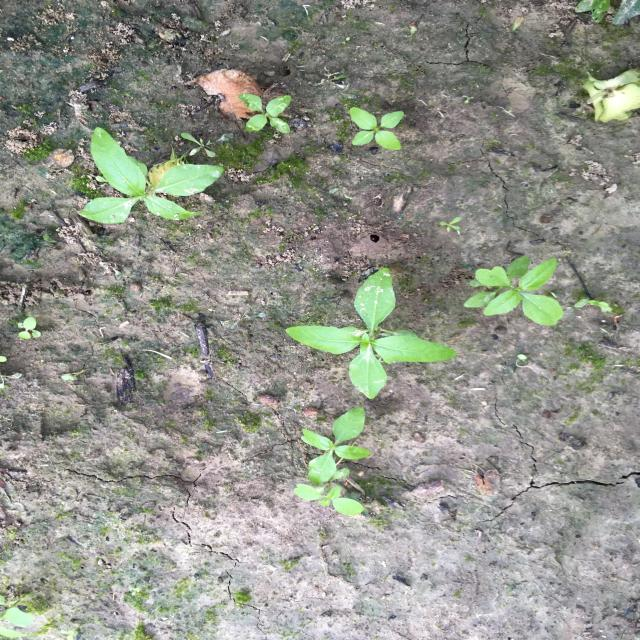Eclipta: (283, 267, 459, 400), (76, 126, 226, 225), (462, 254, 566, 327), (300, 407, 373, 486), (291, 467, 366, 517), (349, 105, 406, 151), (238, 91, 294, 134)
